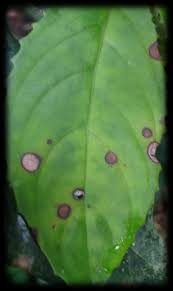ojo de gallo: (21, 112, 128, 221)
